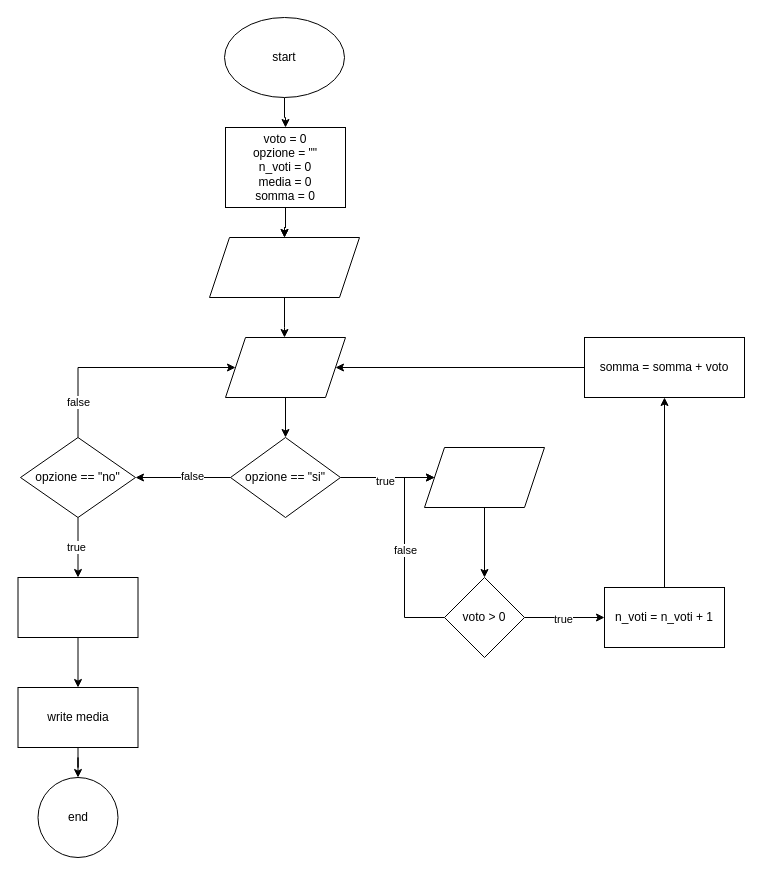
Image size: 762x875. Some labels were removed from this diagram. The shapes that lost their labels are listed below. From the top down, each one's centre as x and y in pixels, then its label:
point 284,267: write "Vuoi inserire un voto?"
point 285,367: read opzione
point 484,477: read voto
point 77,607: media = somma / n_voti
